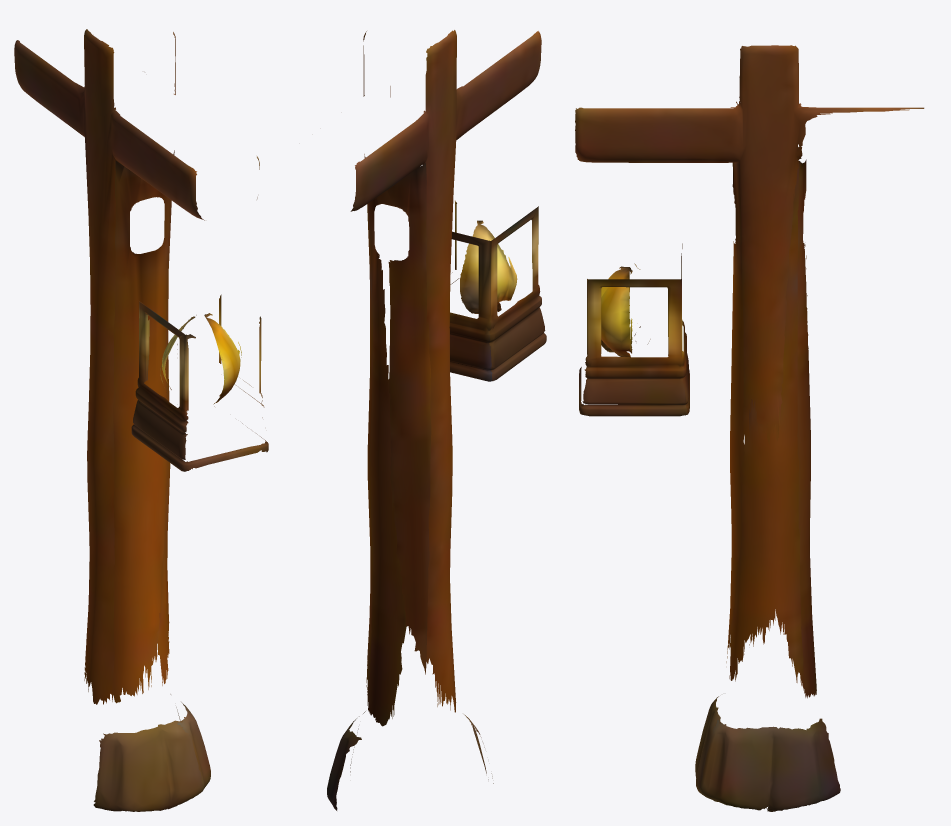
Rendered from lantern_github.glb.
3 views of the same model, side by side, from view 1: azimuth 30°, elevation 25°; view 2: azimuth 150°, elevation 25°; view 3: azimuth 270°, elevation 25° (orthographic). The views are drawn at different scales.
Visible parts, largest first — view 1: lantern_github; view 2: lantern_github; view 3: lantern_github.
Part boxes in pixels (left/top/right/bottom): lantern_github: left=14, top=29, right=268, bottom=811; lantern_github: left=327, top=30, right=546, bottom=810; lantern_github: left=575, top=45, right=924, bottom=811.
Size of the model in its own units: 0.0835 by 0.4963 by 0.2156.
1 material, 1 textured.
